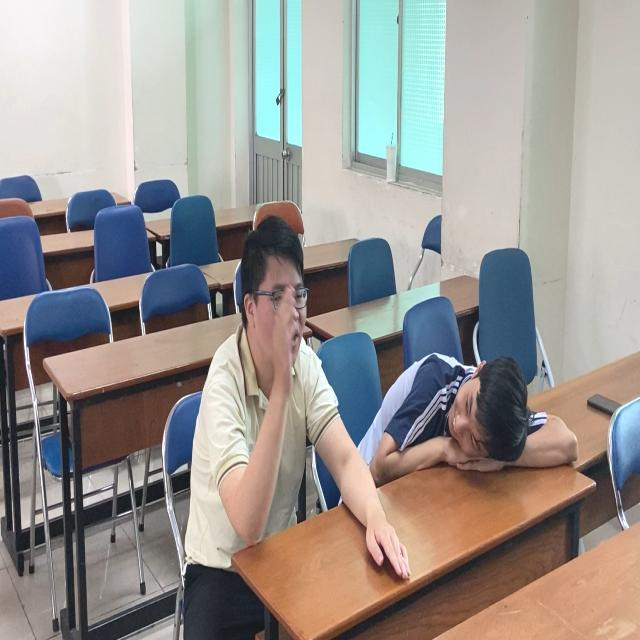raise_hand: (198, 212, 322, 563)
sleep: (369, 333, 583, 491)
